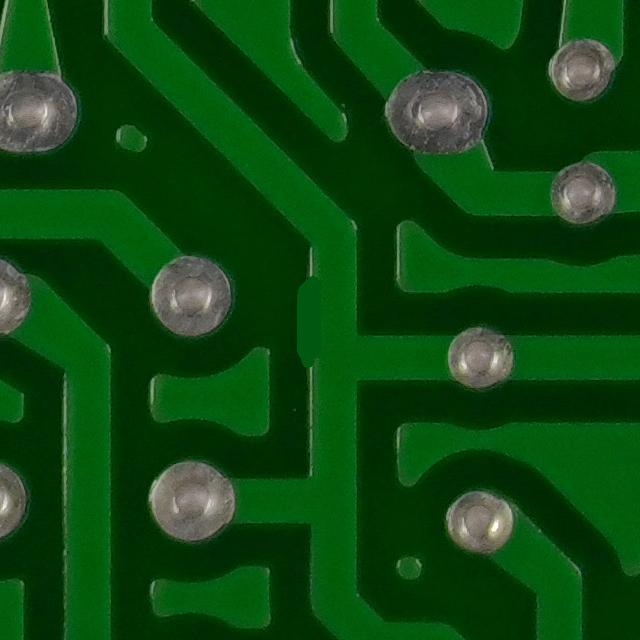spur: (282, 265, 358, 375)
